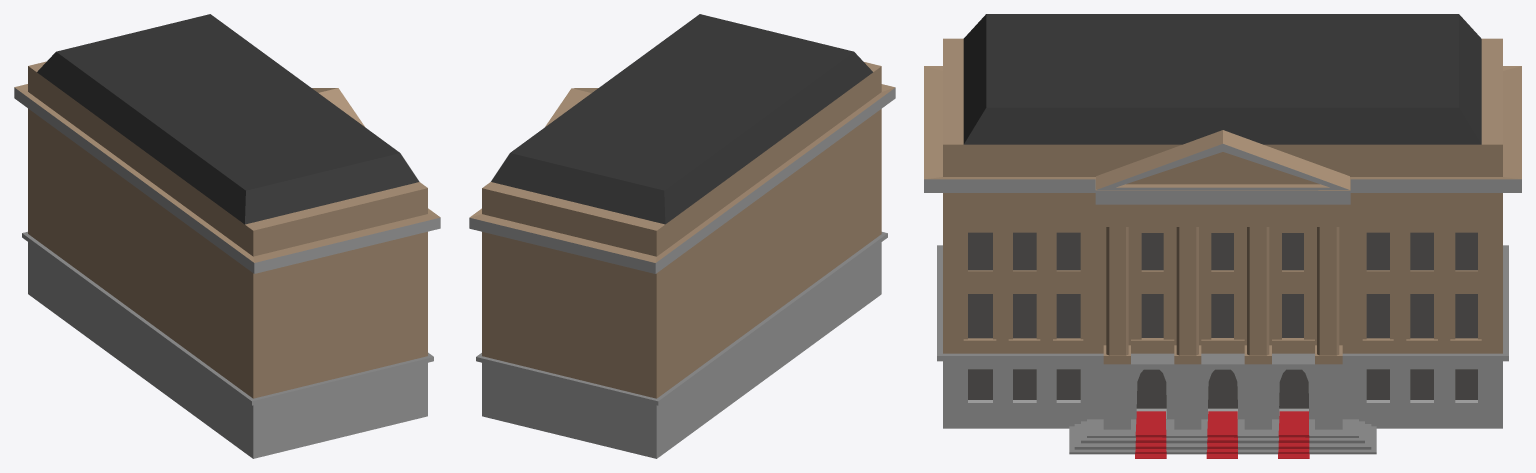
File: Gracht_fixed.fbx
The picture shows the model from 3 angles, left to right: view 1: azimuth 30°, elevation 25°; view 2: azimuth 150°, elevation 25°; view 3: azimuth 270°, elevation 25°; orthographic projection. The views are drawn at different scales.
Parts seen in each view (by area): view 1: polySurface10; view 2: polySurface10; view 3: polySurface10.
Boxes of the visible parts, x1,y1,x2,y2 form: polySurface10: (14,14,440,458); polySurface10: (469,14,895,458); polySurface10: (924,14,1521,458).
Bounding box in the file's own units: 0.1023 × 0.1065 × 0.1833.
